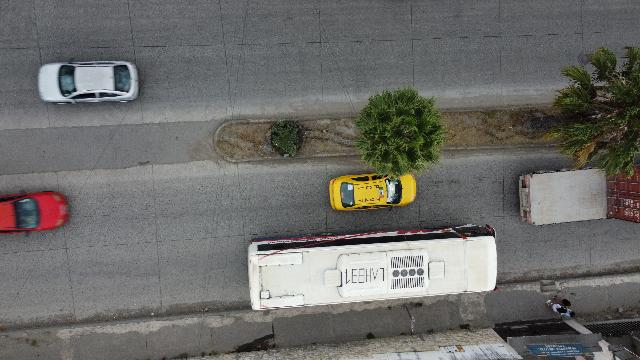Vehiculo: (38, 60, 138, 104), (330, 174, 416, 210), (0, 191, 68, 233)
